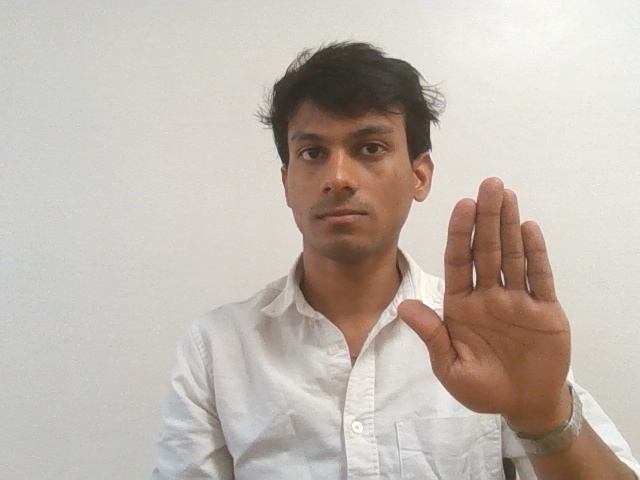Hello: (395, 174, 579, 445)
